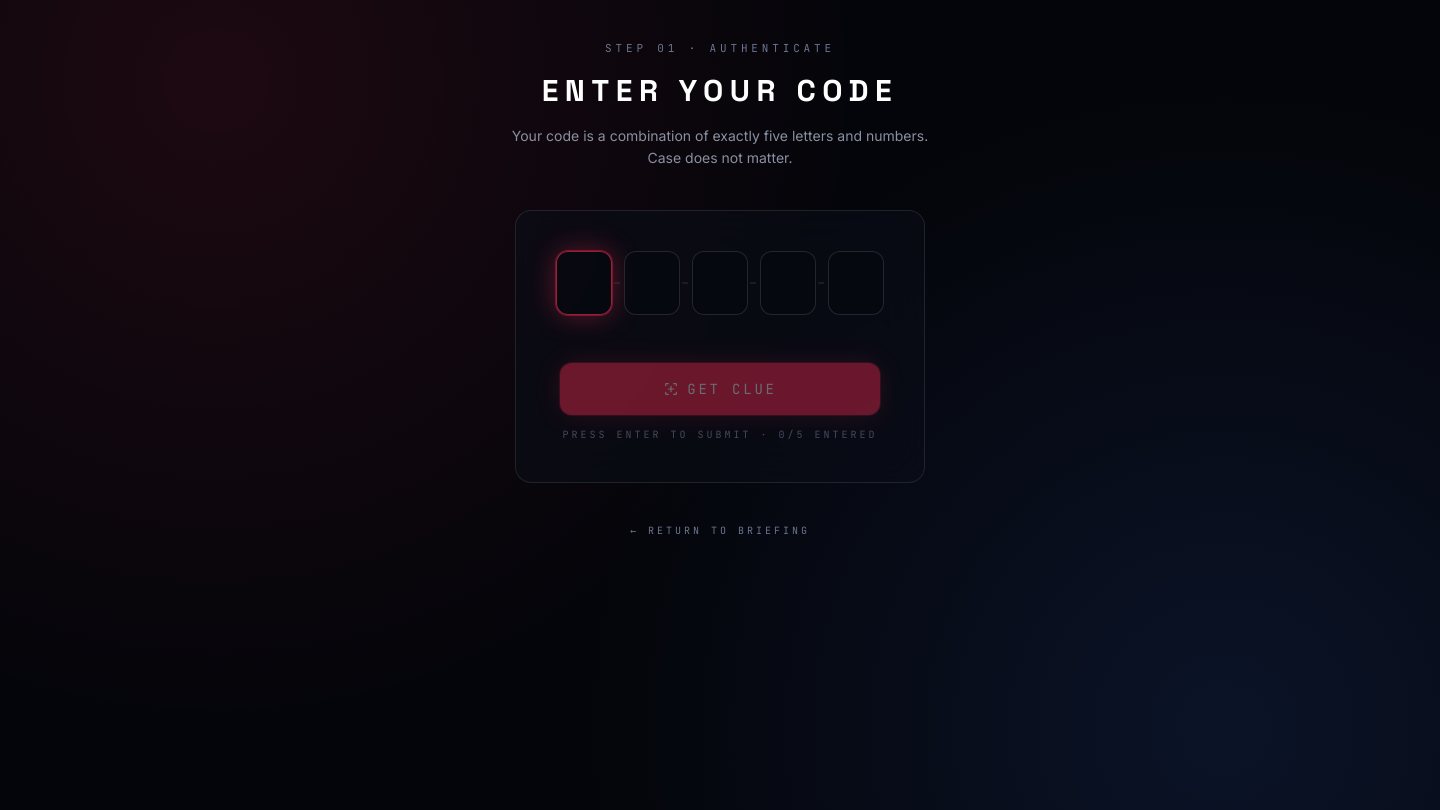
it: Enter code page › shows the unavailable message for a disabled clue
Type "a" into the field named "Code character 1" at (584, 283), box [556, 251, 612, 315]
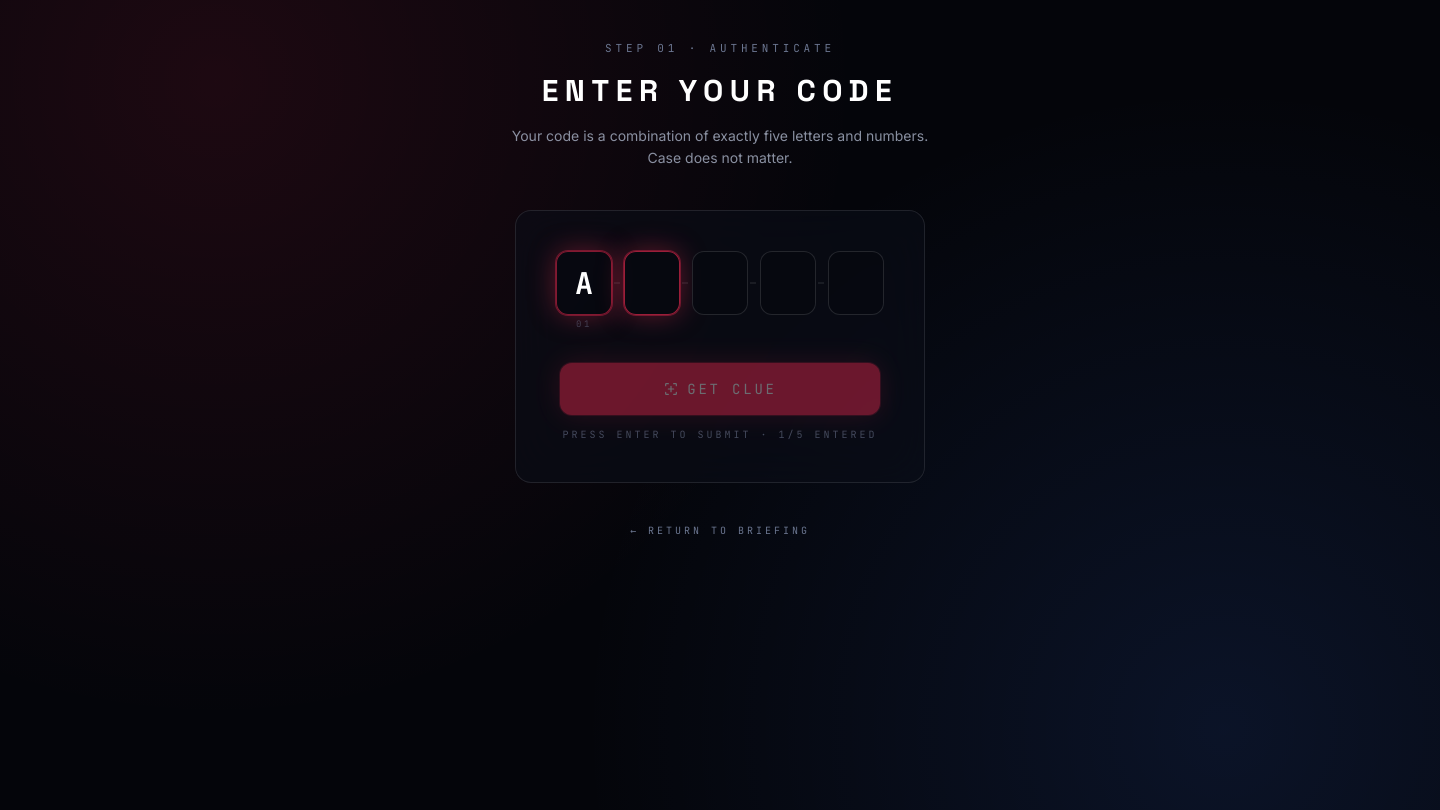
Type "b" into the field named "Code character 2" at (652, 283), box [624, 251, 680, 315]
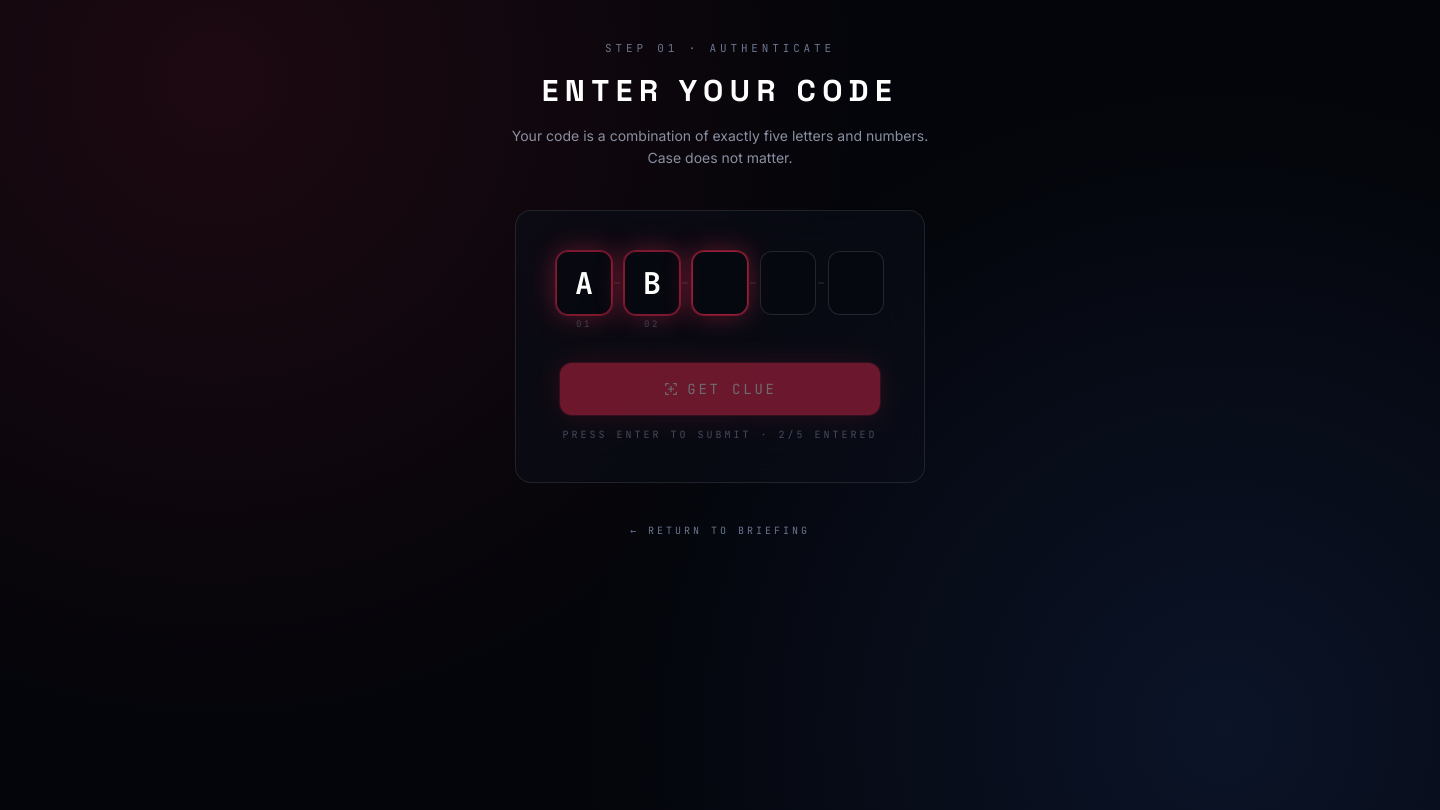
Type "c" into the field named "Code character 3" at (720, 283), box [692, 251, 748, 315]
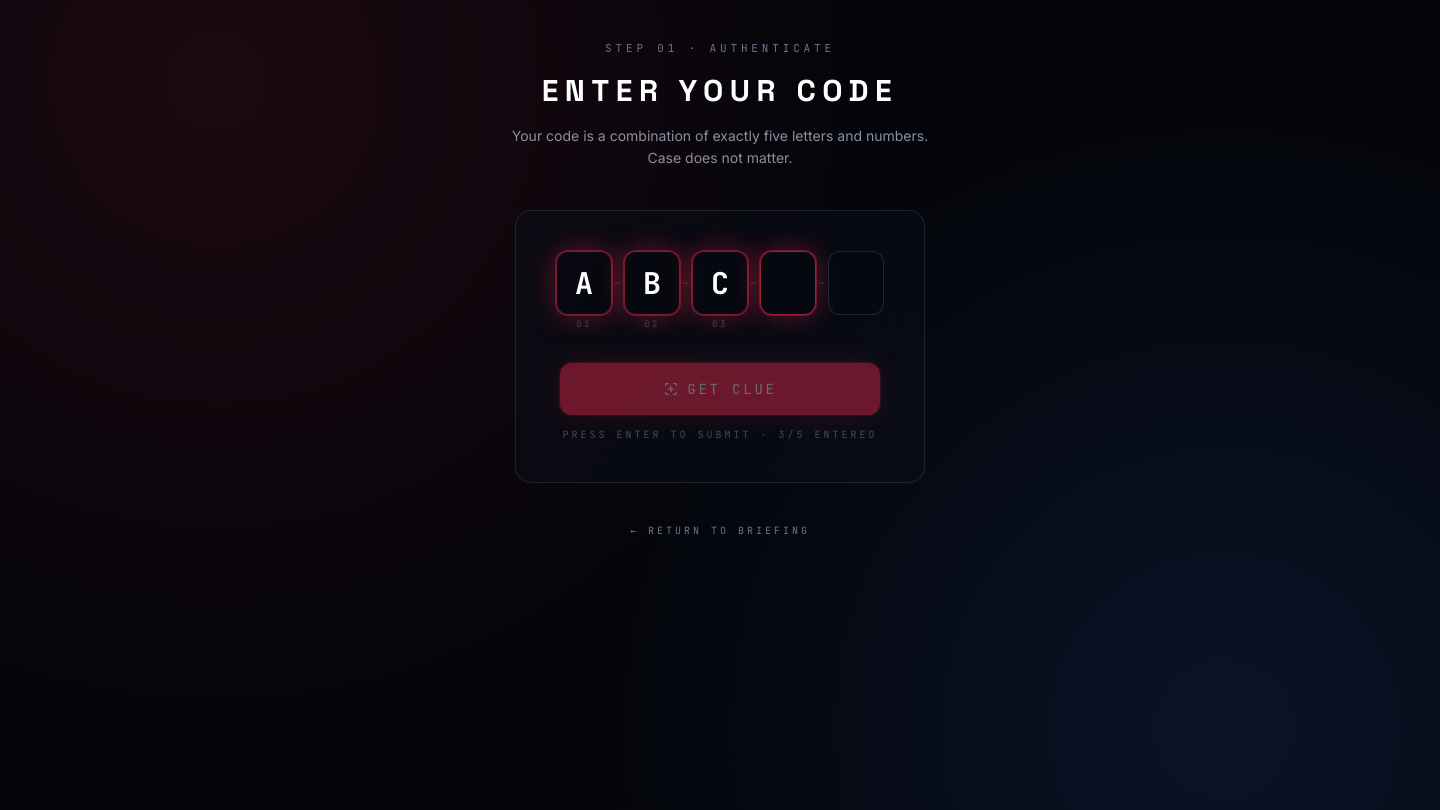
Type "d" into the field named "Code character 4" at (788, 283), box [760, 251, 816, 315]
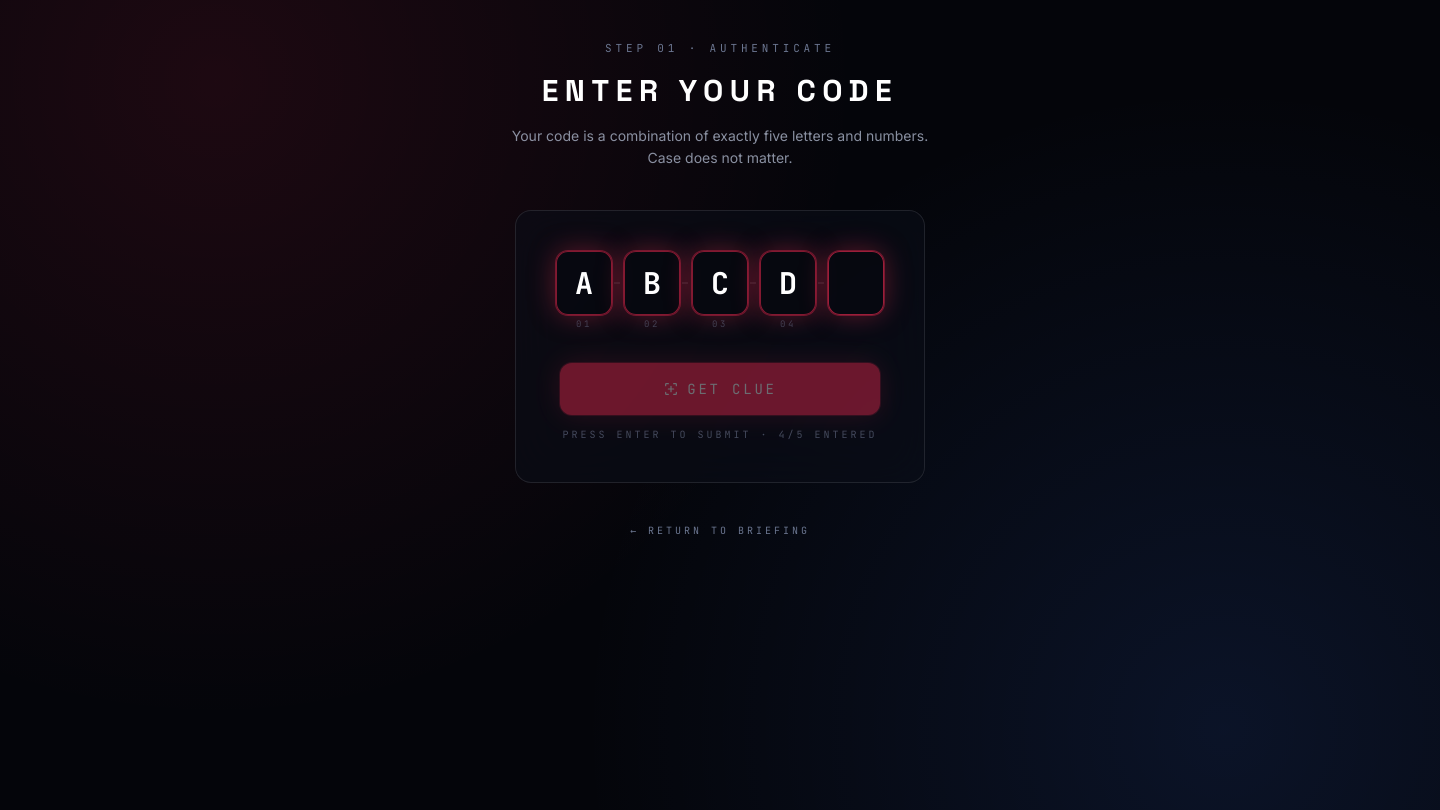
Type "e" into the field named "Code character 5" at (856, 283), box [828, 251, 884, 315]
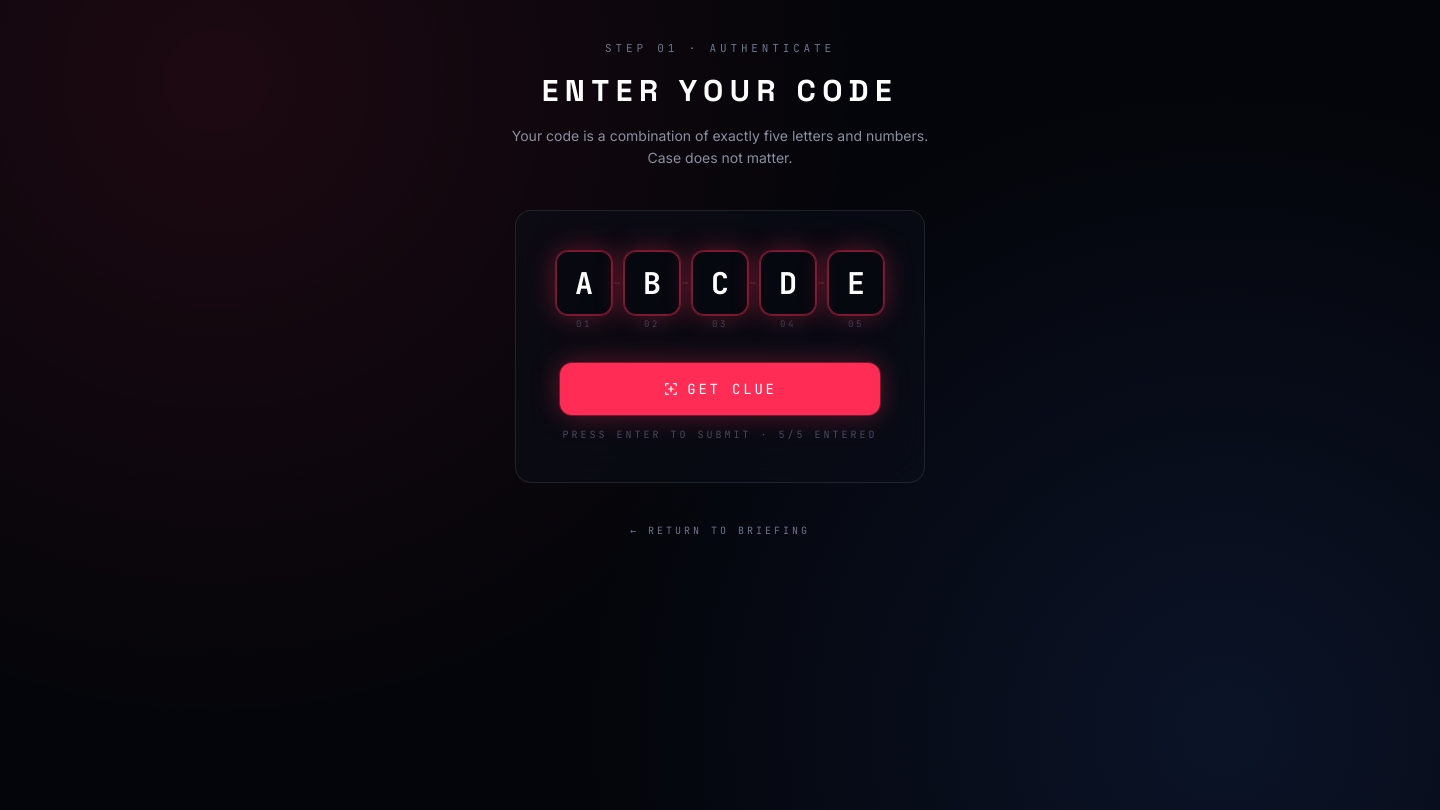
Click the button "Get Clue" at (720, 389), box [560, 363, 880, 415]
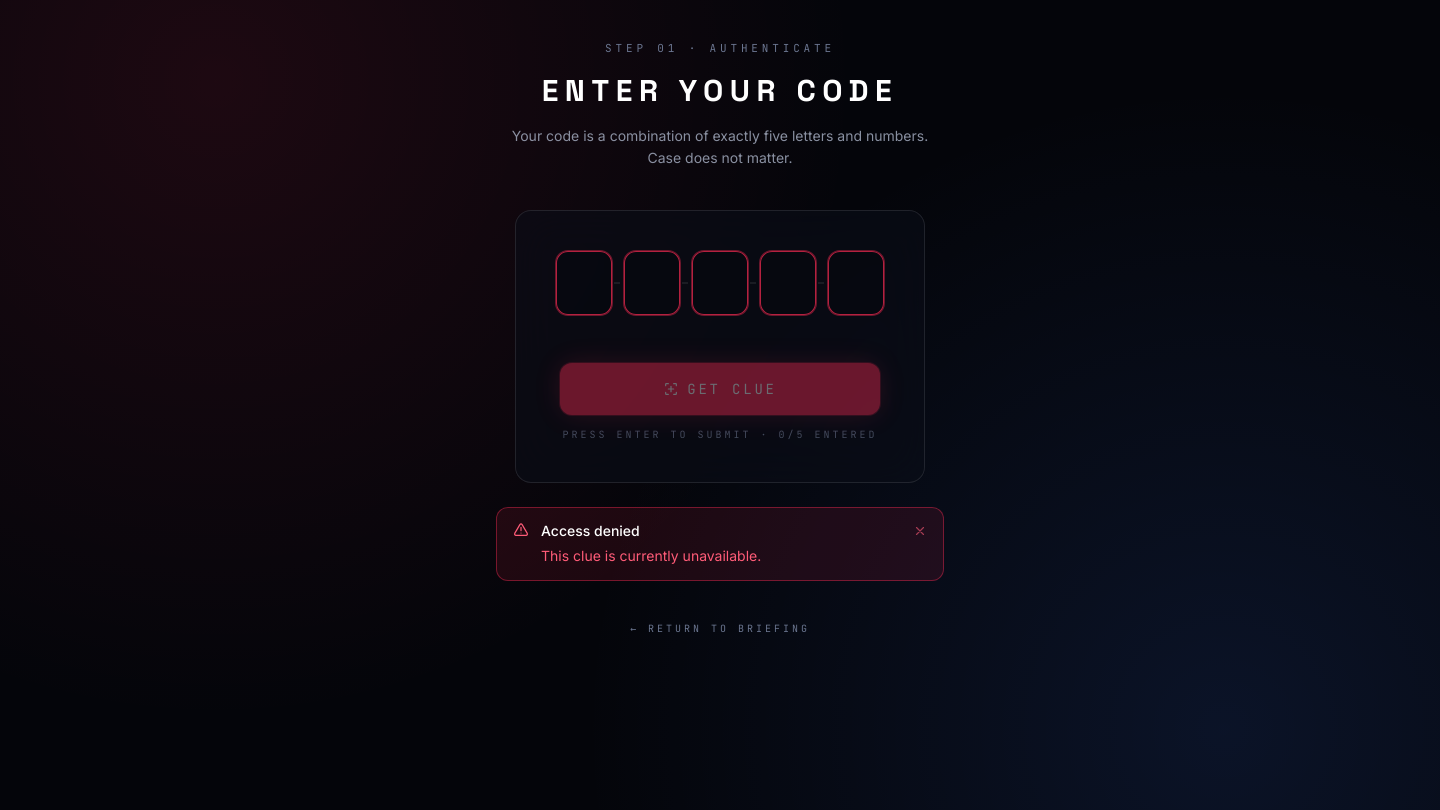
Expected: the text "This clue is currently unavailable." is shown, [541, 547, 761, 564]
